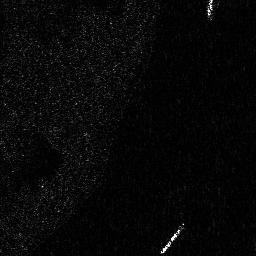ship: (158, 220, 186, 255)
